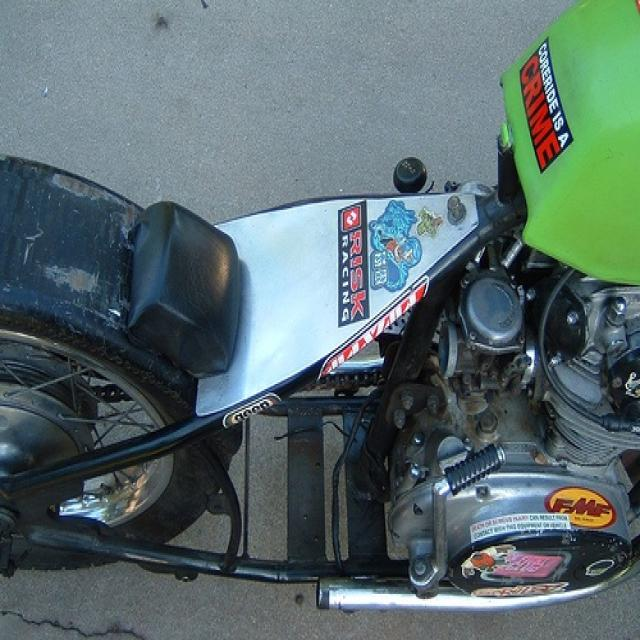motorbike: (8, 18, 639, 610)
